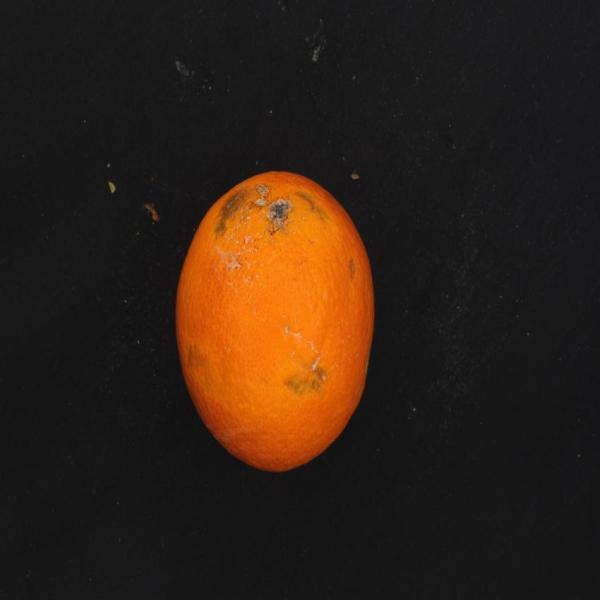Otros defectos: (164, 159, 393, 472)
